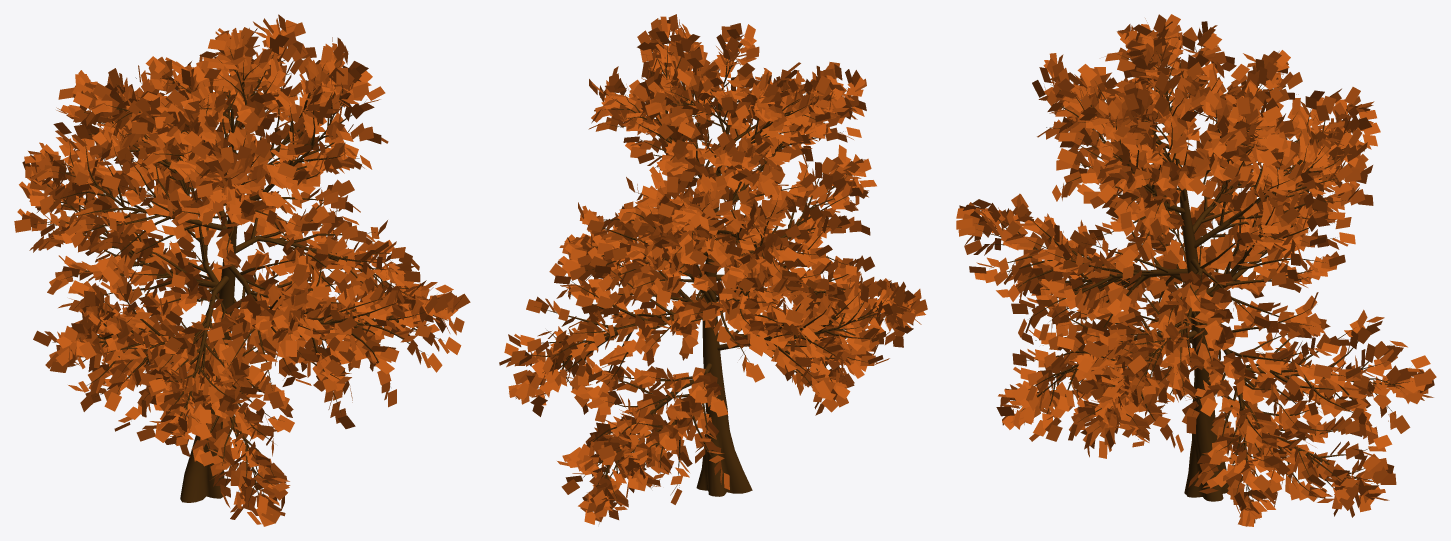
The model's file is tree.FBX.
3 renders of one model, left to right at view 1: azimuth 30°, elevation 25°; view 2: azimuth 150°, elevation 25°; view 3: azimuth 270°, elevation 25°, orthographic. The views are drawn at different scales.
Visible parts, largest first — view 1: Foliage001; view 2: Foliage001; view 3: Foliage001.
Part boxes in pixels (left/top/right/bottom): Foliage001: left=14, top=14, right=470, bottom=526; Foliage001: left=499, top=14, right=927, bottom=524; Foliage001: left=956, top=14, right=1436, bottom=526.
Bounding box in the file's own units: 404 × 471 × 428.
